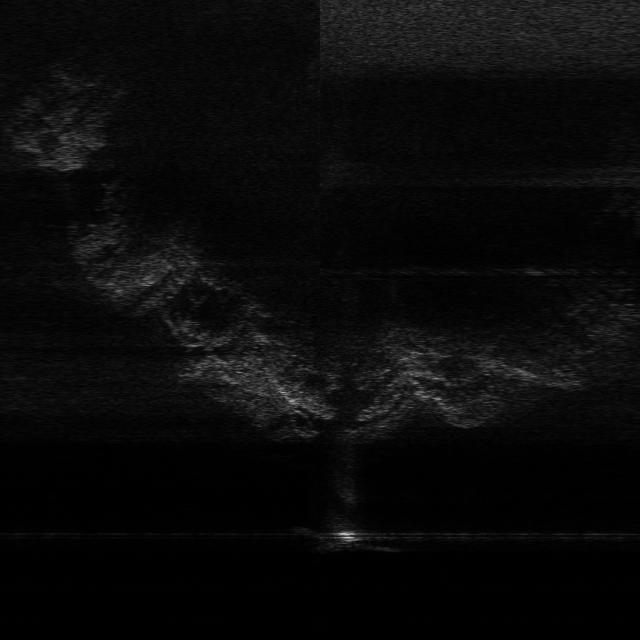plane: (294, 521, 408, 554)
